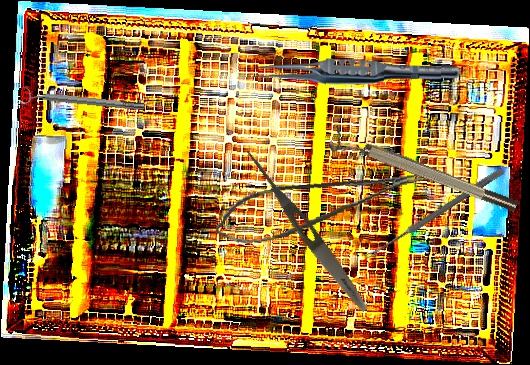Dressing Forceps: (239, 146, 373, 316)
Fixation Ring: (327, 124, 520, 223), (19, 84, 145, 118)
Micro Scissor: (209, 166, 429, 250)
Surgical Spoon: (364, 166, 505, 262)
Tissue Forceps: (249, 56, 461, 87)
